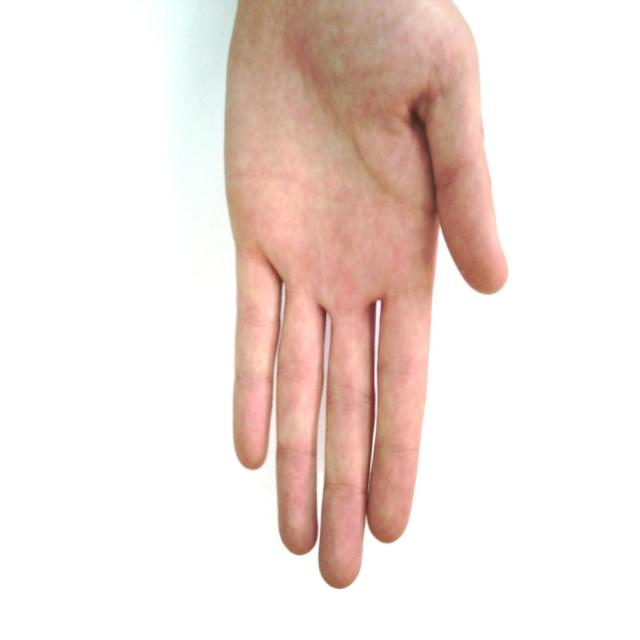others: (202, 1, 530, 594)
